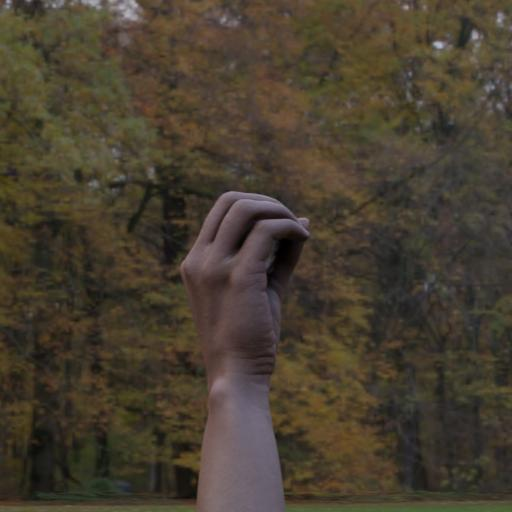O: (178, 186, 314, 392)
